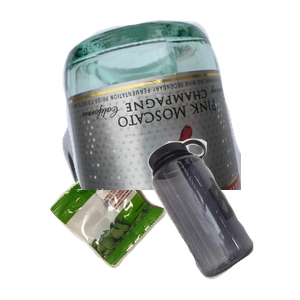glass: (60, 17, 300, 197)
metal: (60, 79, 300, 259)
plastic: (145, 136, 300, 300)
trash: (47, 146, 220, 300)
